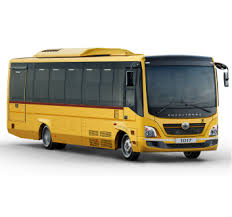bus: (6, 47, 230, 160)
